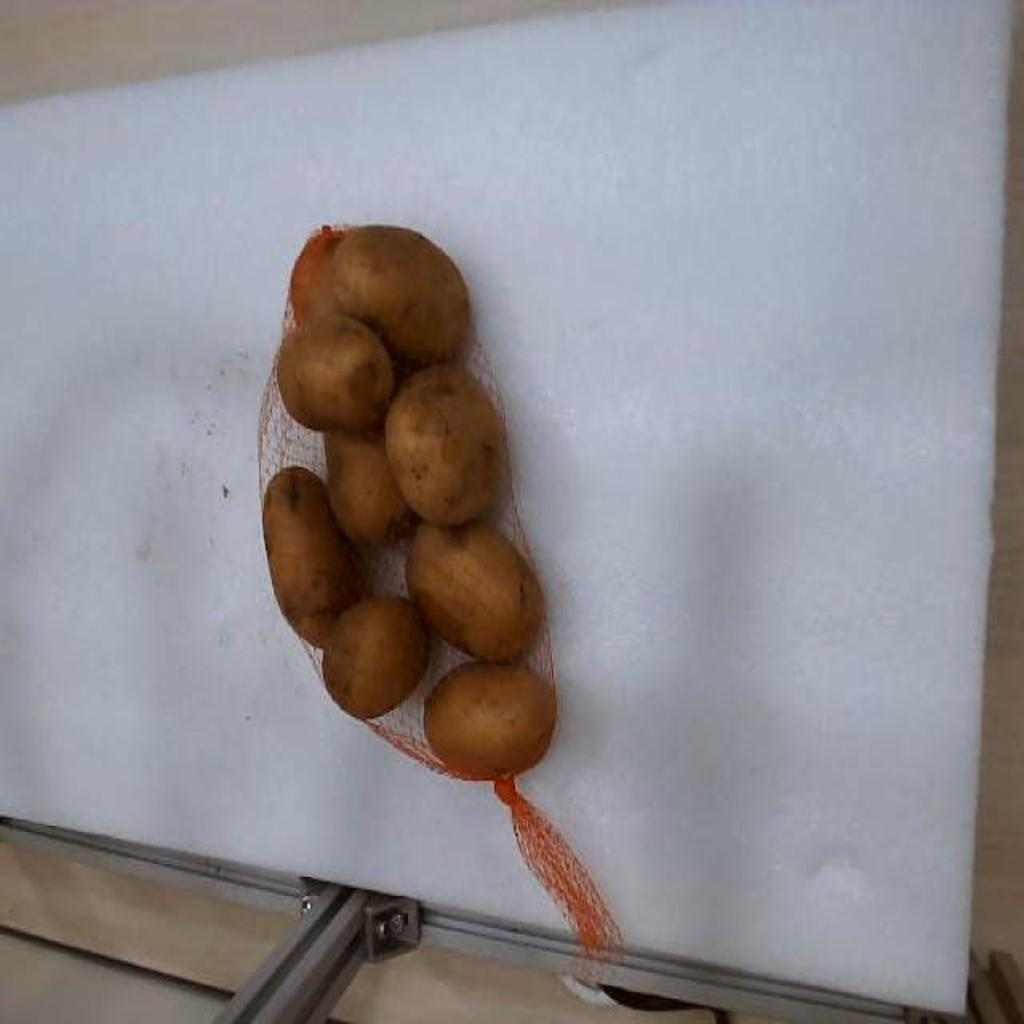potato: (334, 227, 470, 364), (408, 523, 544, 660), (386, 365, 500, 525), (262, 467, 360, 645), (424, 661, 556, 779), (278, 312, 394, 432), (324, 595, 428, 719), (327, 432, 412, 545), (290, 227, 345, 324)
